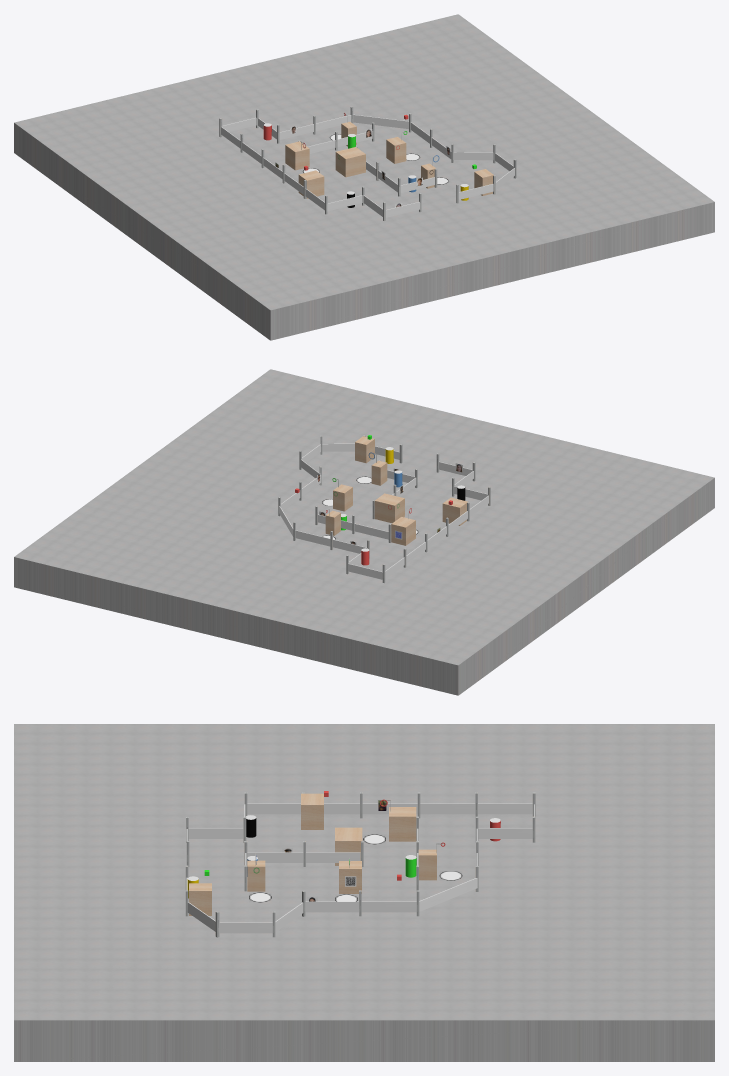
Rendered from map.dae.
3 views of the same model, one above another, from view 1: azimuth 30°, elevation 25°; view 2: azimuth 150°, elevation 25°; view 3: azimuth 270°, elevation 25° (orthographic). The views are drawn at different scales.
Parts seen in each view (by area): view 1: main; view 2: main; view 3: main.
Part boxes in pixels (<box>): main: <box>14,14,714,340</box>; main: <box>14,369,714,695</box>; main: <box>14,724,714,1061</box>.
Bounding box in the file's own units: 15.34 × 15.34 × 1.92.
